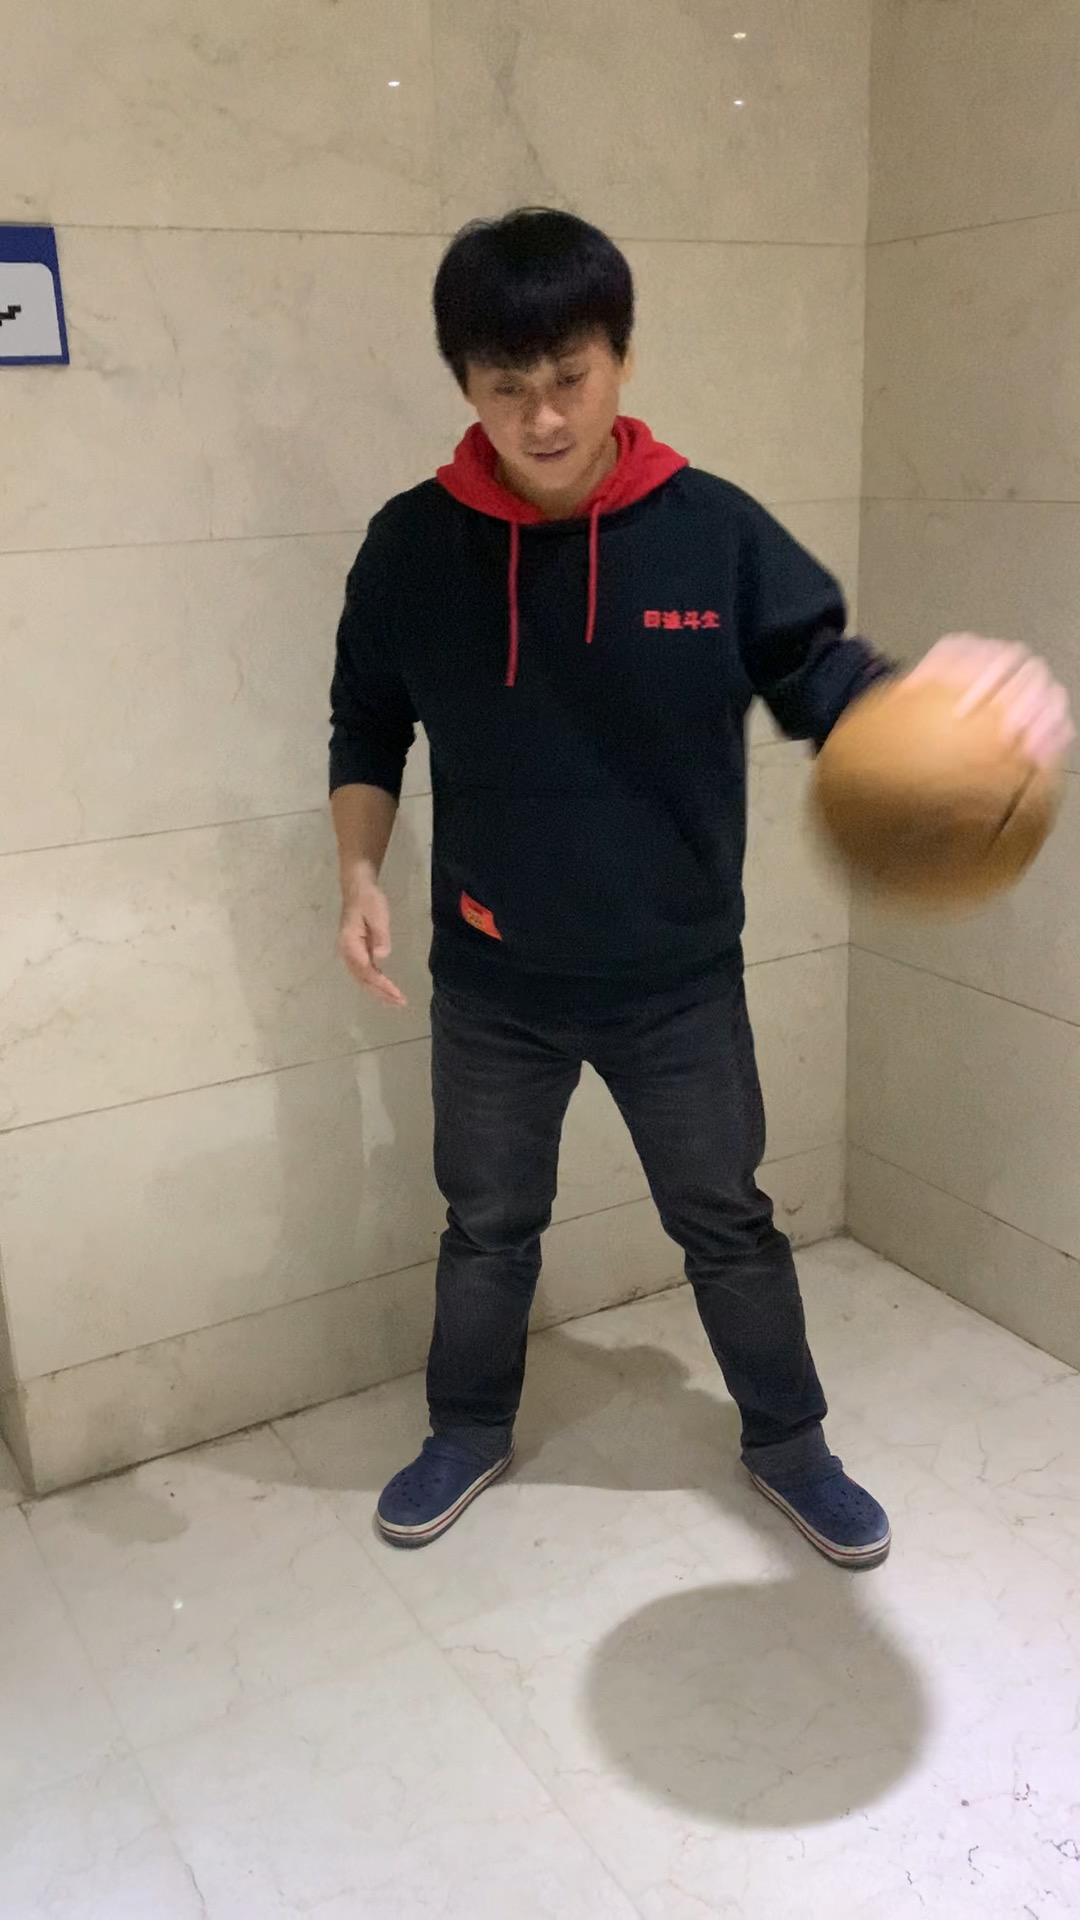ball: (804, 653, 1069, 922)
